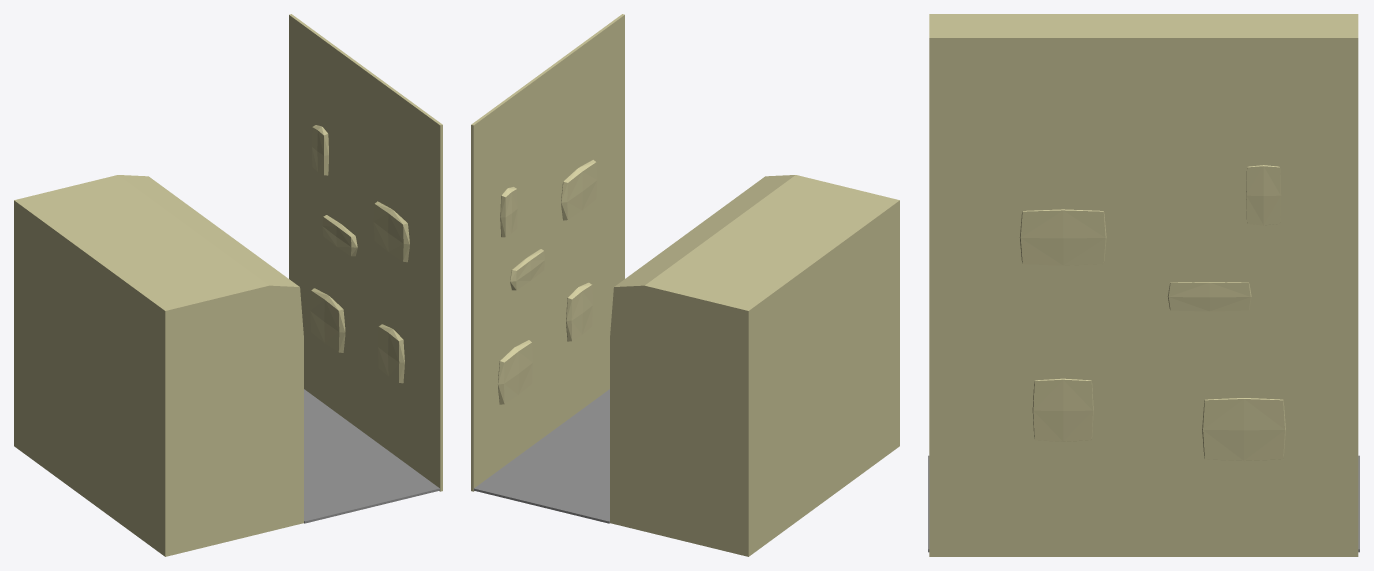
File: parkour_walls.dae
3 views of the same model, side by side, from view 1: azimuth 30°, elevation 25°; view 2: azimuth 150°, elevation 25°; view 3: azimuth 270°, elevation 25° (orthographic). The views are drawn at different scales.
Parts seen in each view (by area): view 1: Small_wall, Long_wall, Ground; view 2: Small_wall, Long_wall, Ground; view 3: Long_wall, Small_wall.
Boxes of the visible parts, x1,y1,x2,y2 form: Small_wall: (14, 175, 303, 556); Long_wall: (289, 14, 442, 491); Ground: (304, 389, 439, 523); Small_wall: (610, 175, 899, 556); Long_wall: (471, 14, 624, 491); Ground: (474, 389, 609, 523); Long_wall: (929, 36, 1358, 556); Small_wall: (929, 14, 1358, 35).
Size of the model in its own units: 5.16 by 4.89 by 6.48.
